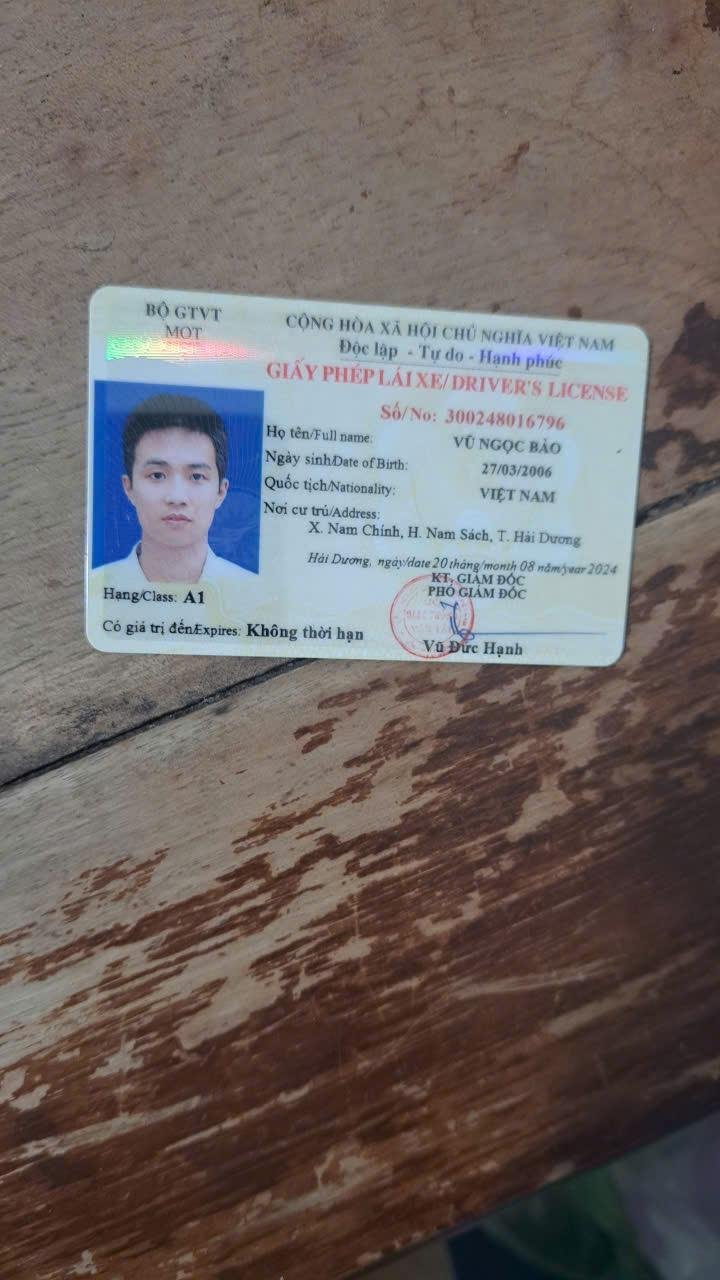gplx: (74, 277, 658, 673)
